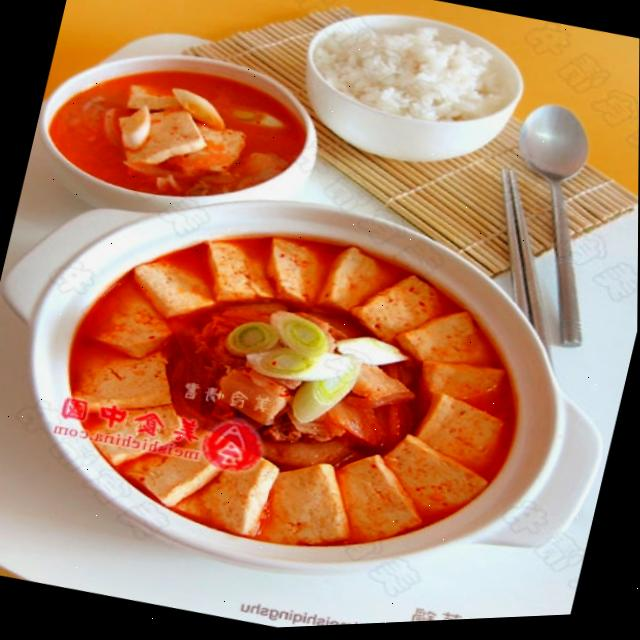豆腐料理: (7, 132, 608, 638)
